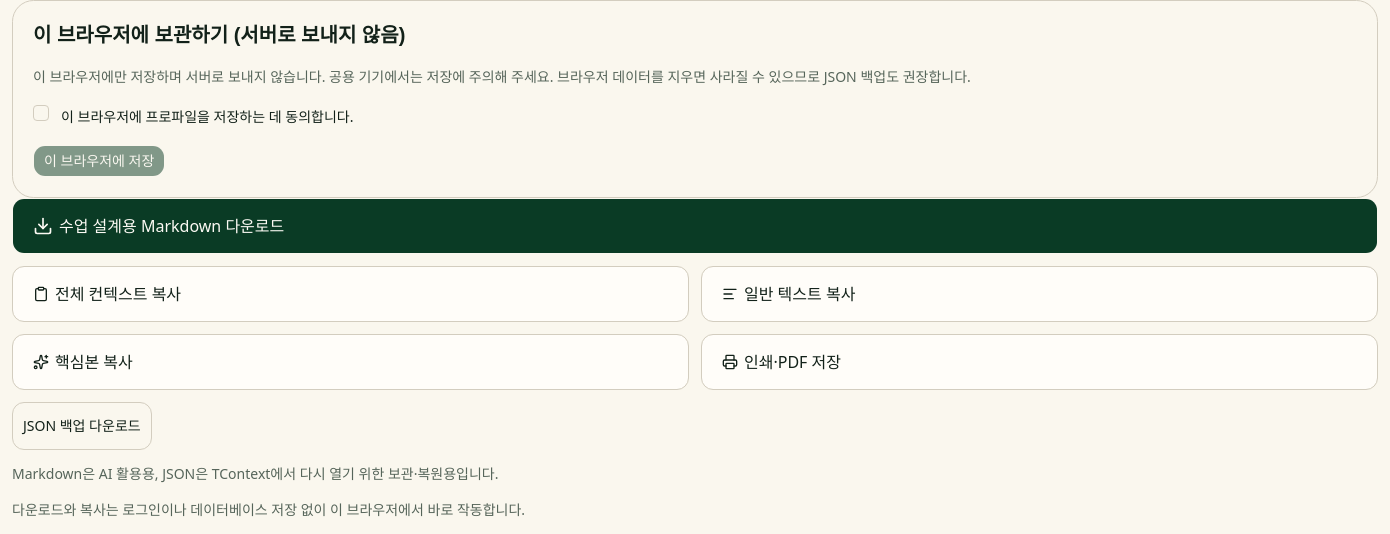
Scenario: keeps downloads available after a quota error
What coordinates should you click on to do the following:
click the checkbox named "프로파일을 저장하는 데 동의"
I would click on:
 (41, 113)
Its box is 33,105 -> 49,121.
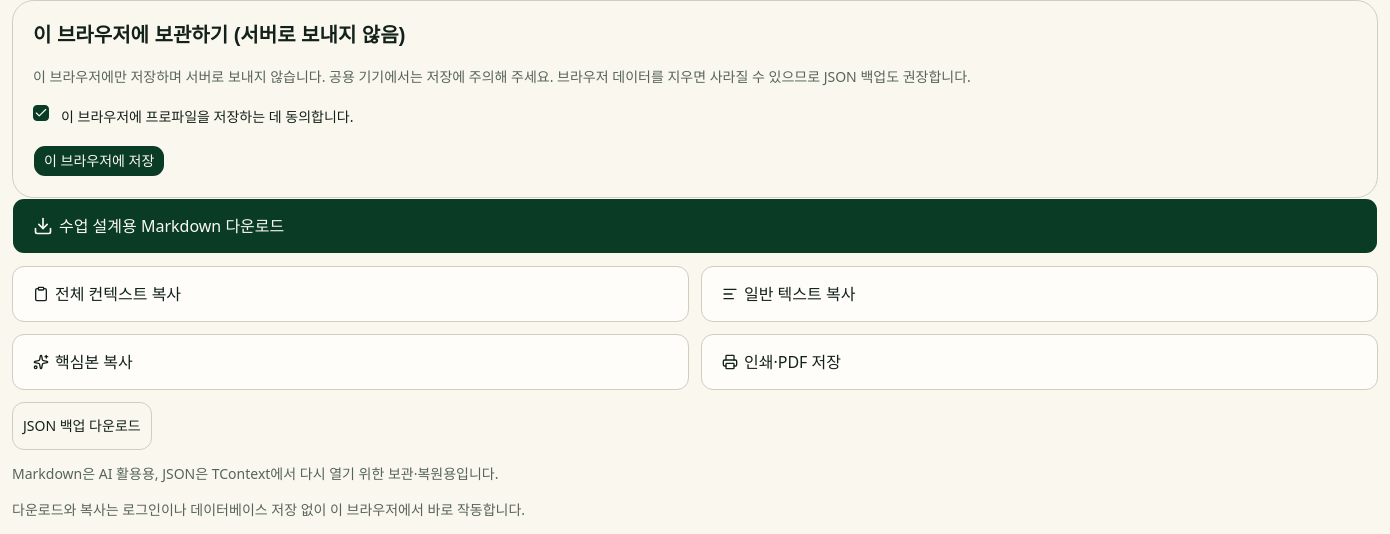
What coordinates should you click on to do the following:
click the button "이 브라우저에 저장"
I would click on:
 (99, 161)
Its box is 33,145 -> 165,177.
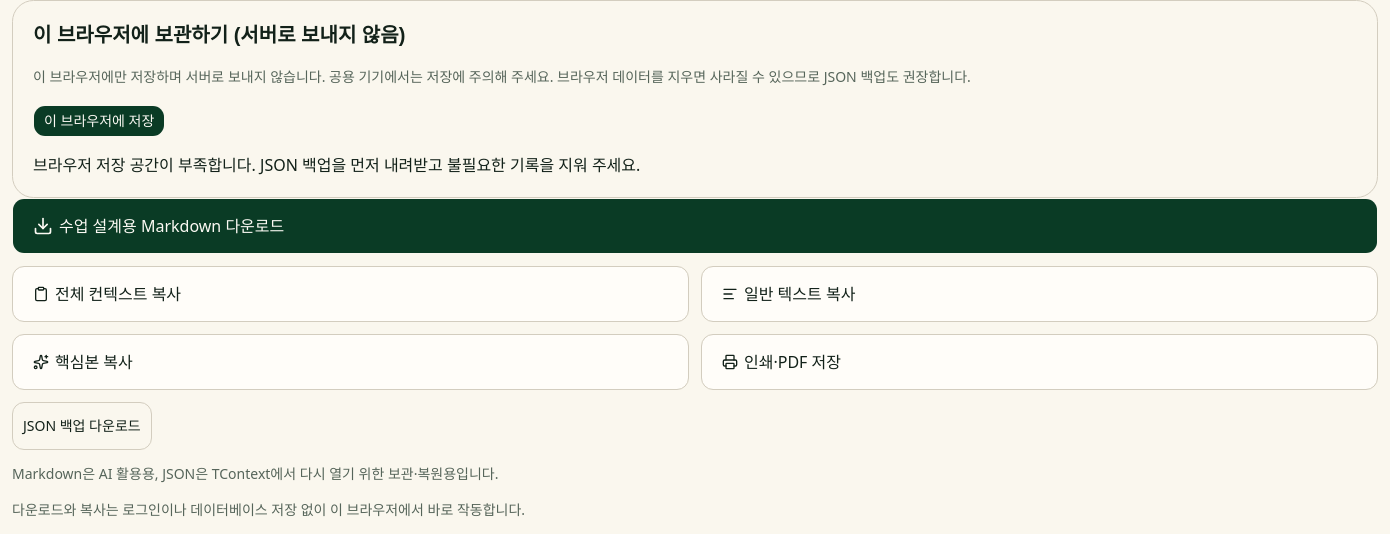
Expected: the button "JSON 백업 다운로드" is enabled, 12,402 -> 152,450
Now the message shows "저장 공간이 부족", box 33,154 -> 640,176
